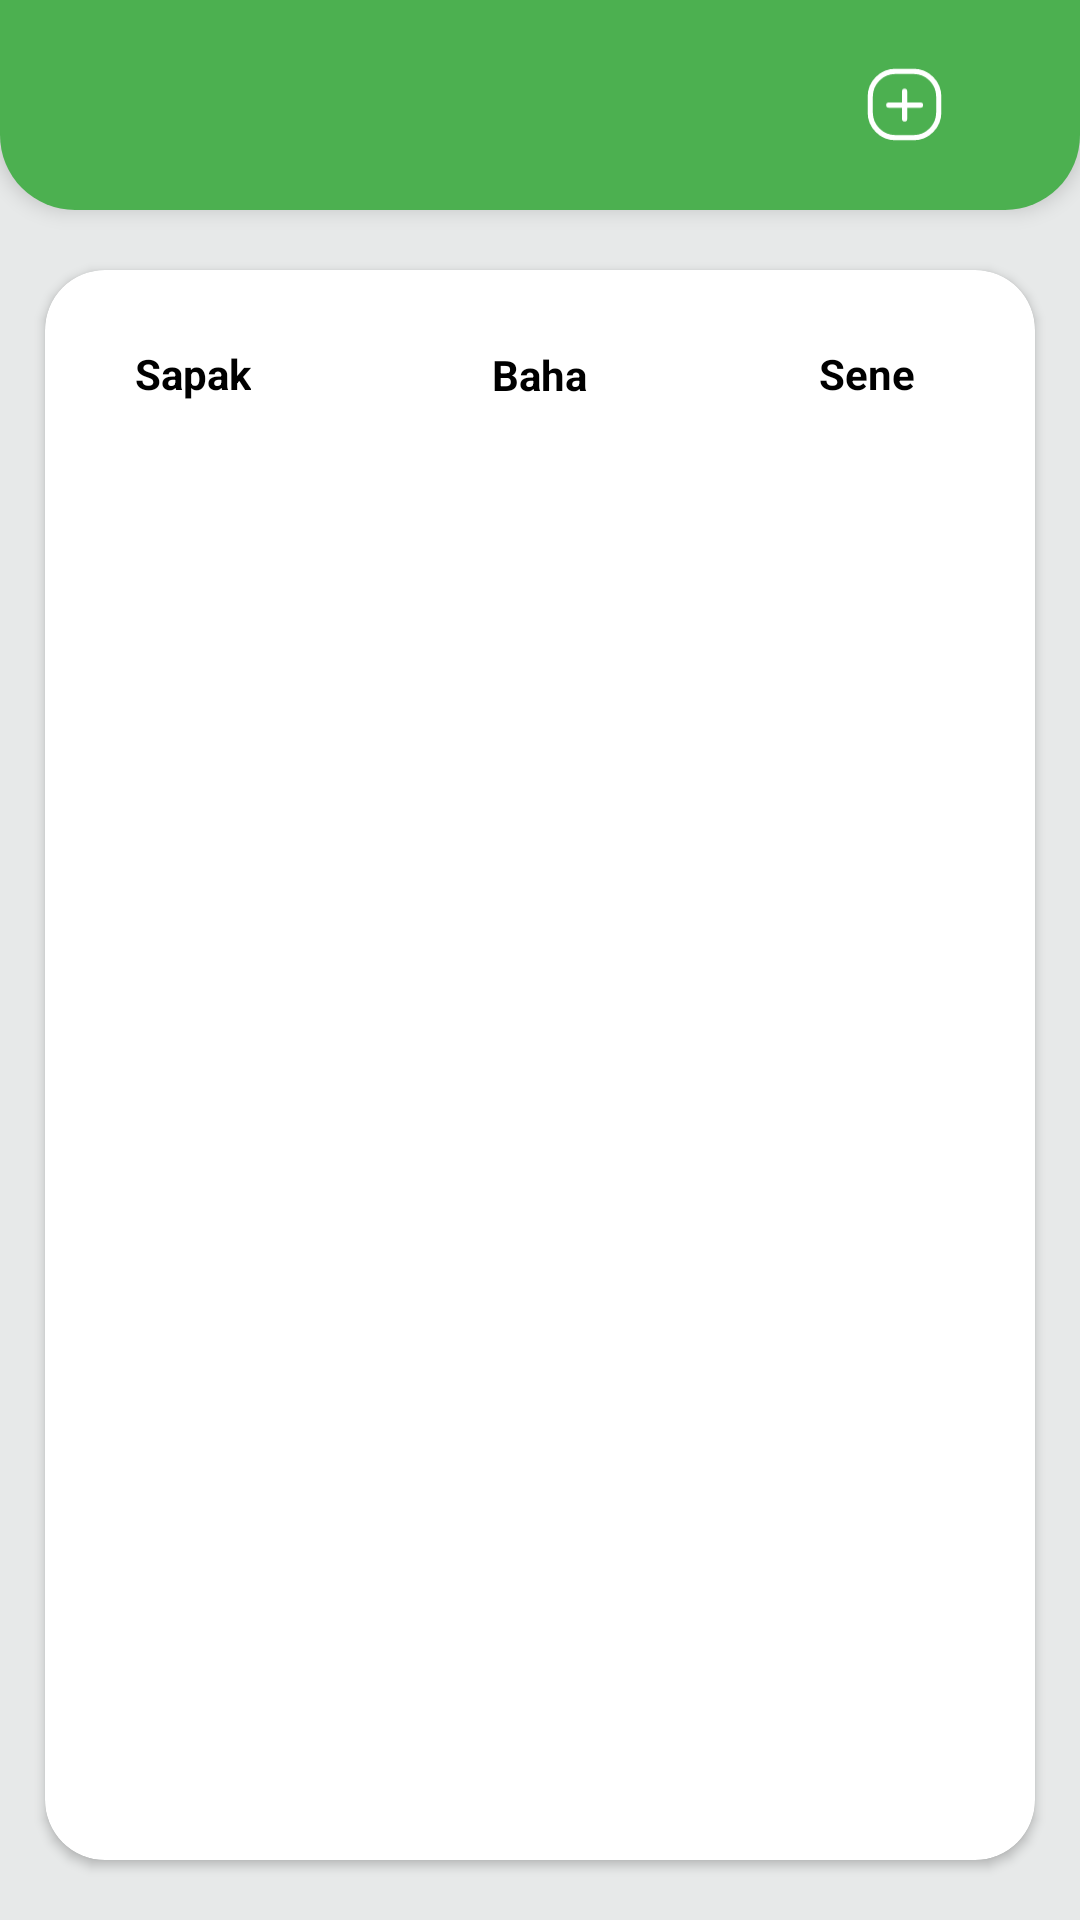

Named icons in this screenshot (1080×1920) and their bounding boxes, (x1, y1, x2, y2):
add: (867, 68, 942, 141)
